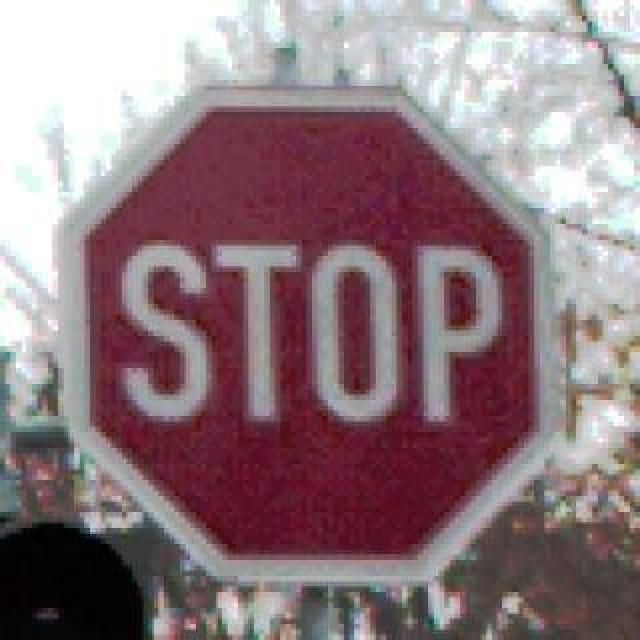stop: (60, 76, 556, 576)
